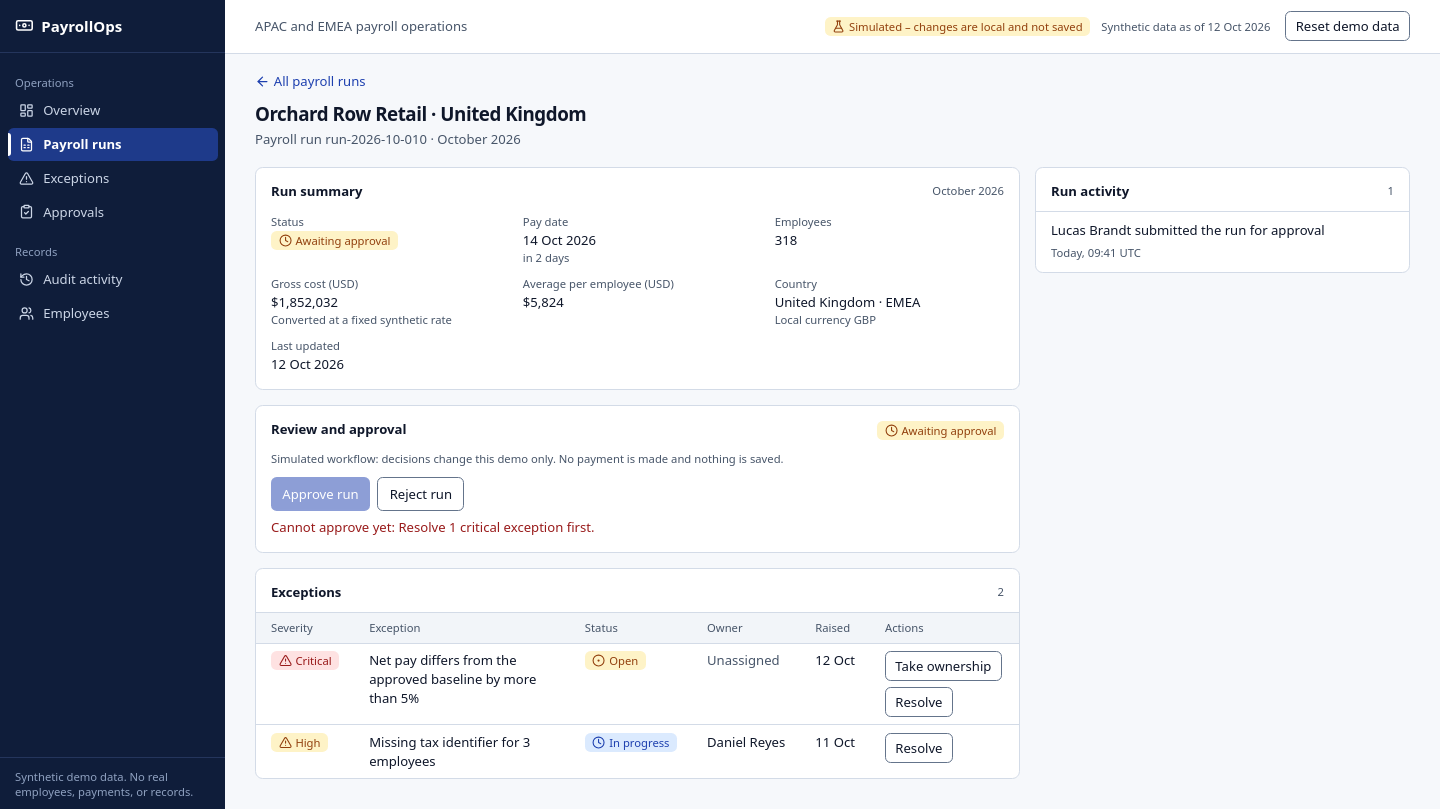
Test: one workflow, every view › updates the unresolved exception counts when an exception is resolved
Click the button with aria-label "Resolve: Net pay differs": {"x": 919, "y": 702} top-left (885, 687), bottom-right (953, 717)
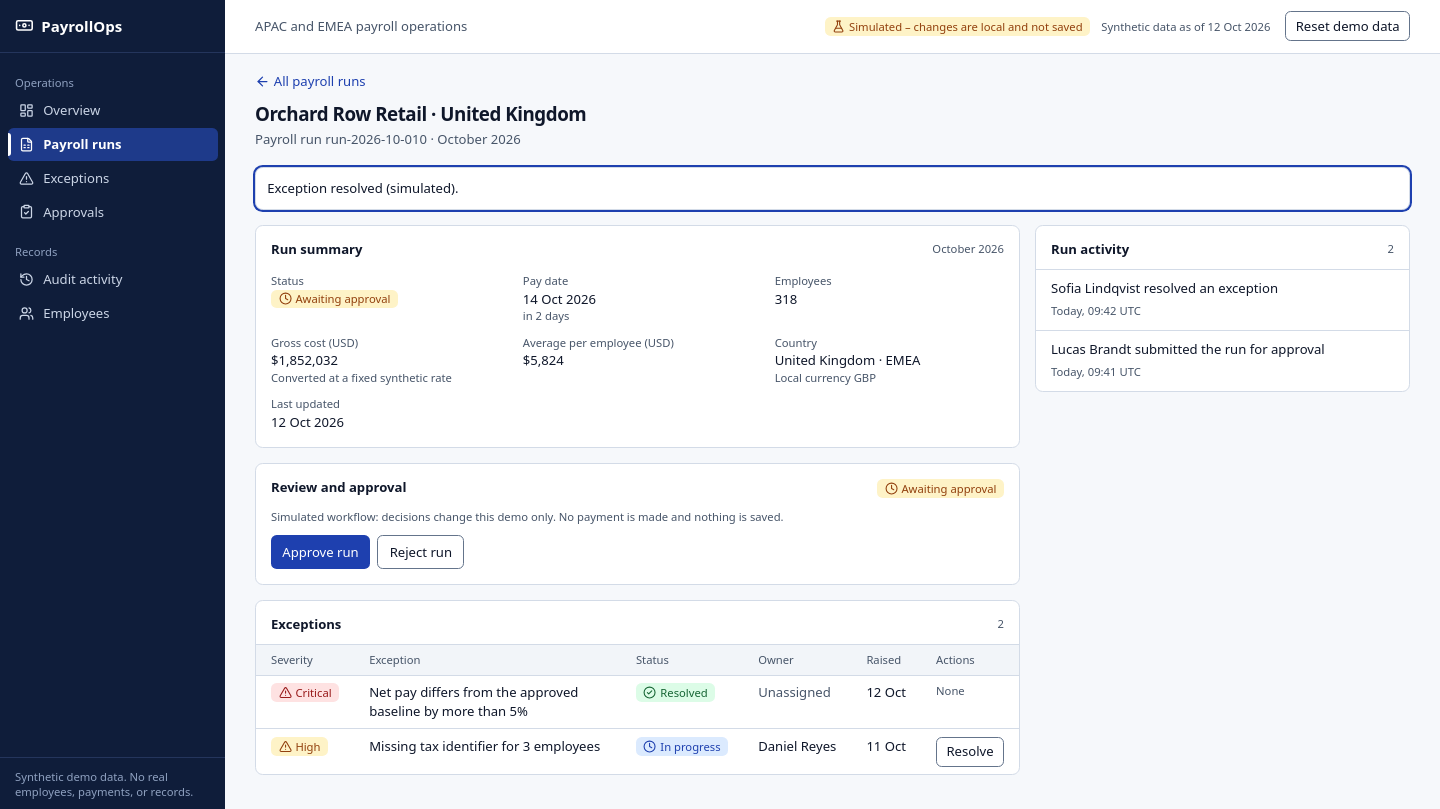
Click the link "Overview": {"x": 60, "y": 110} top-left (19, 101), bottom-right (100, 119)
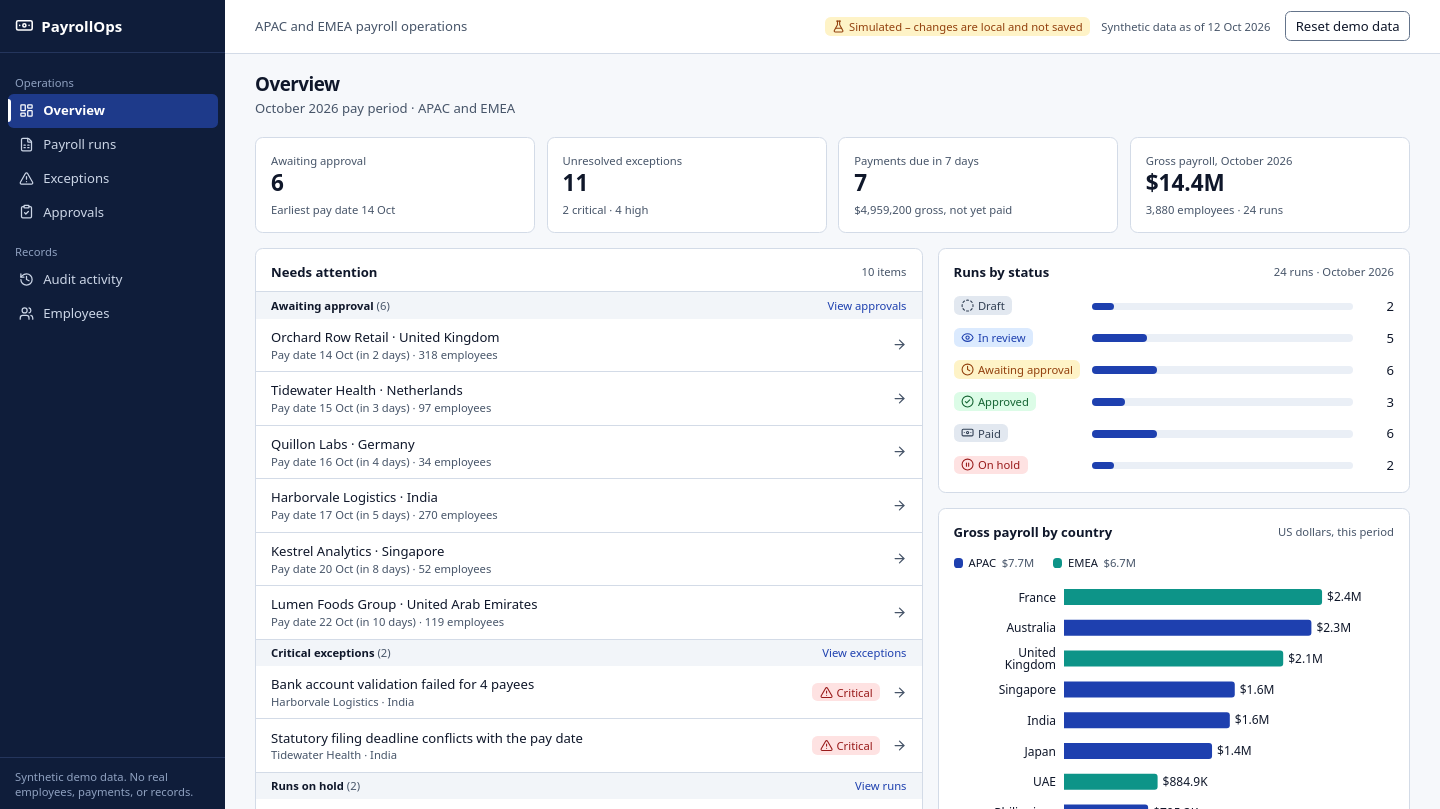
Expected: the link "Unresolved exceptions 11 2 critical · 4 high" is shown, top-left (563, 153), bottom-right (682, 217)
Expected: the heading "Critical exceptions (2)" is shown, top-left (271, 645), bottom-right (391, 660)
